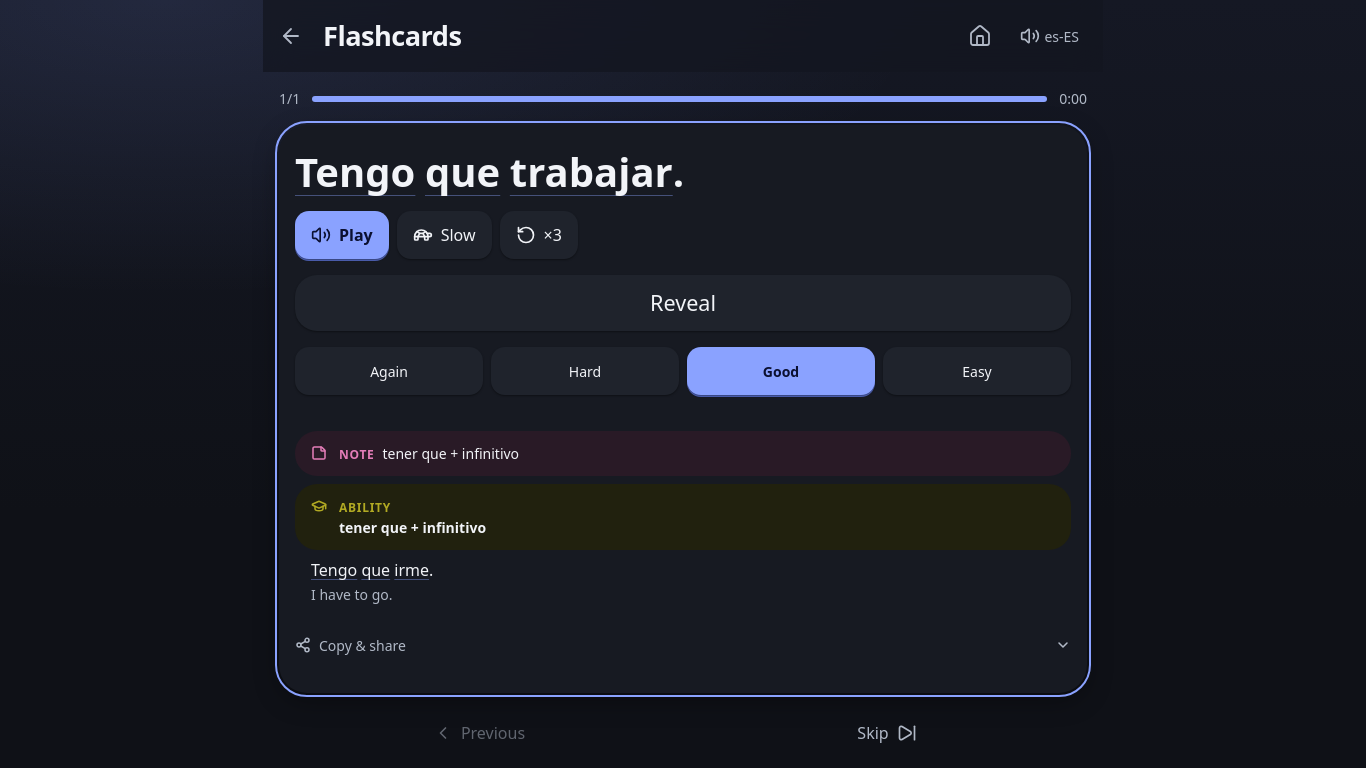
Test: selecting a phrase › never offers to select the punctuation
What coordinates should you click on to do the following:
click the button with aria-label "About “trabajar”"
I would click on:
 (591, 172)
Its box is [510, 149, 673, 195].
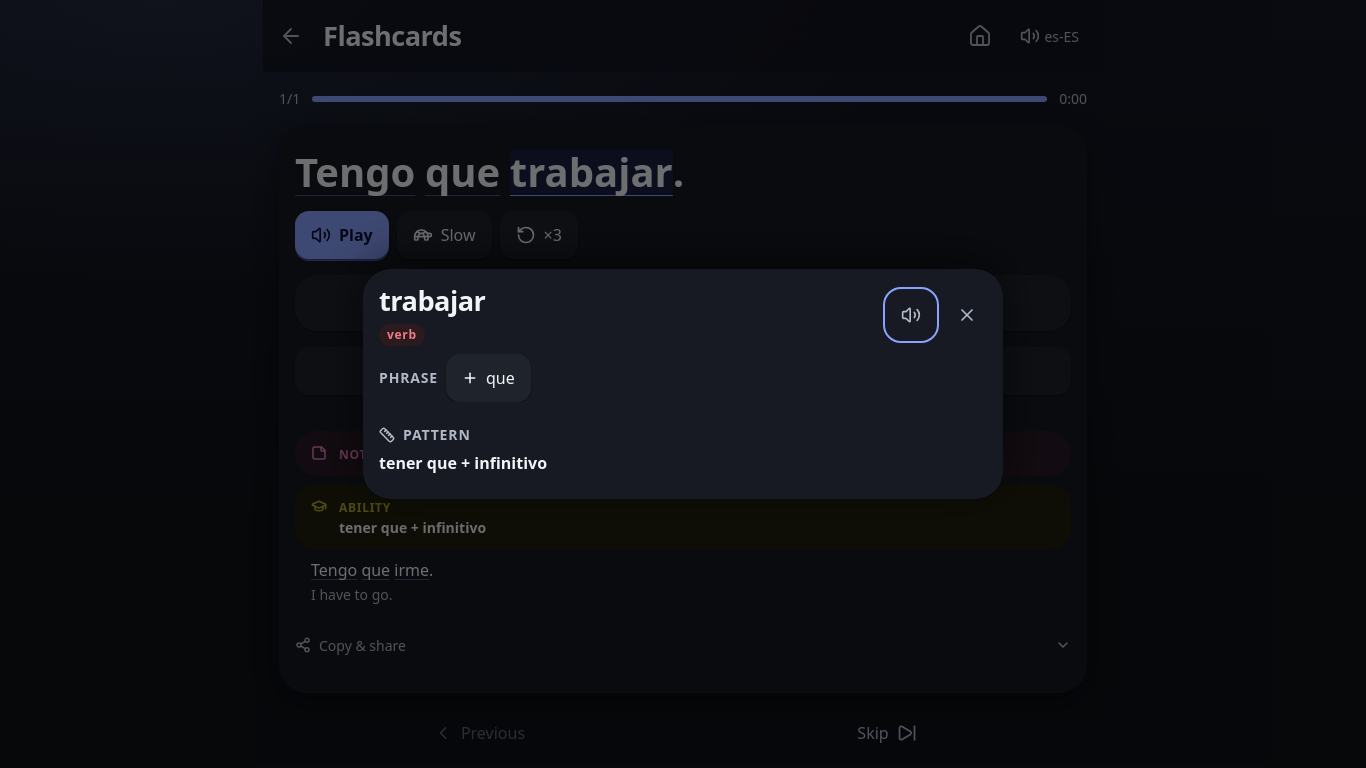
expect the button with aria-label "Add “que” before" is shown: met, box [446, 354, 531, 402]
